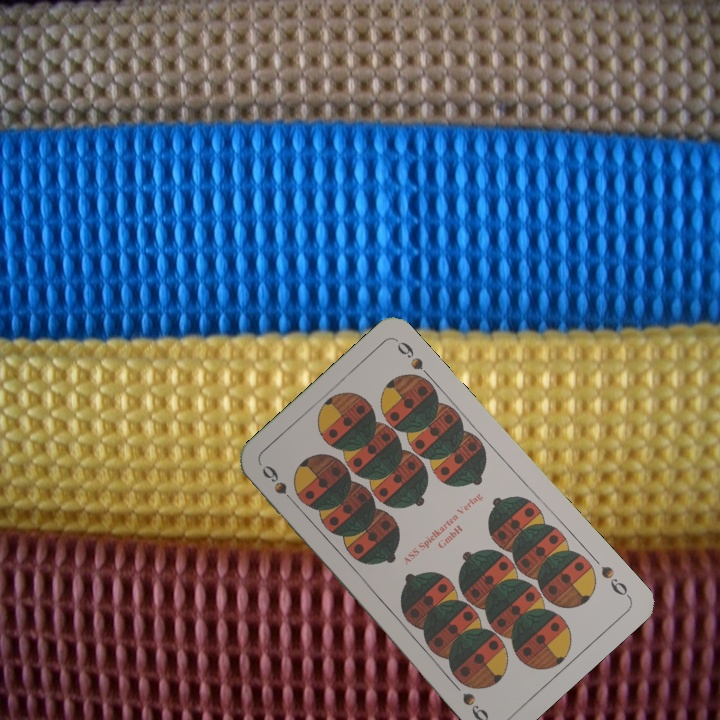S9: (257, 461, 301, 510), (596, 562, 633, 601)
